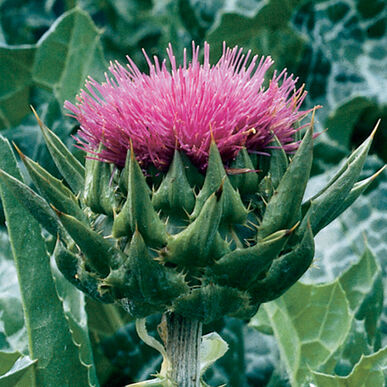thistle: (41, 52, 374, 319)
